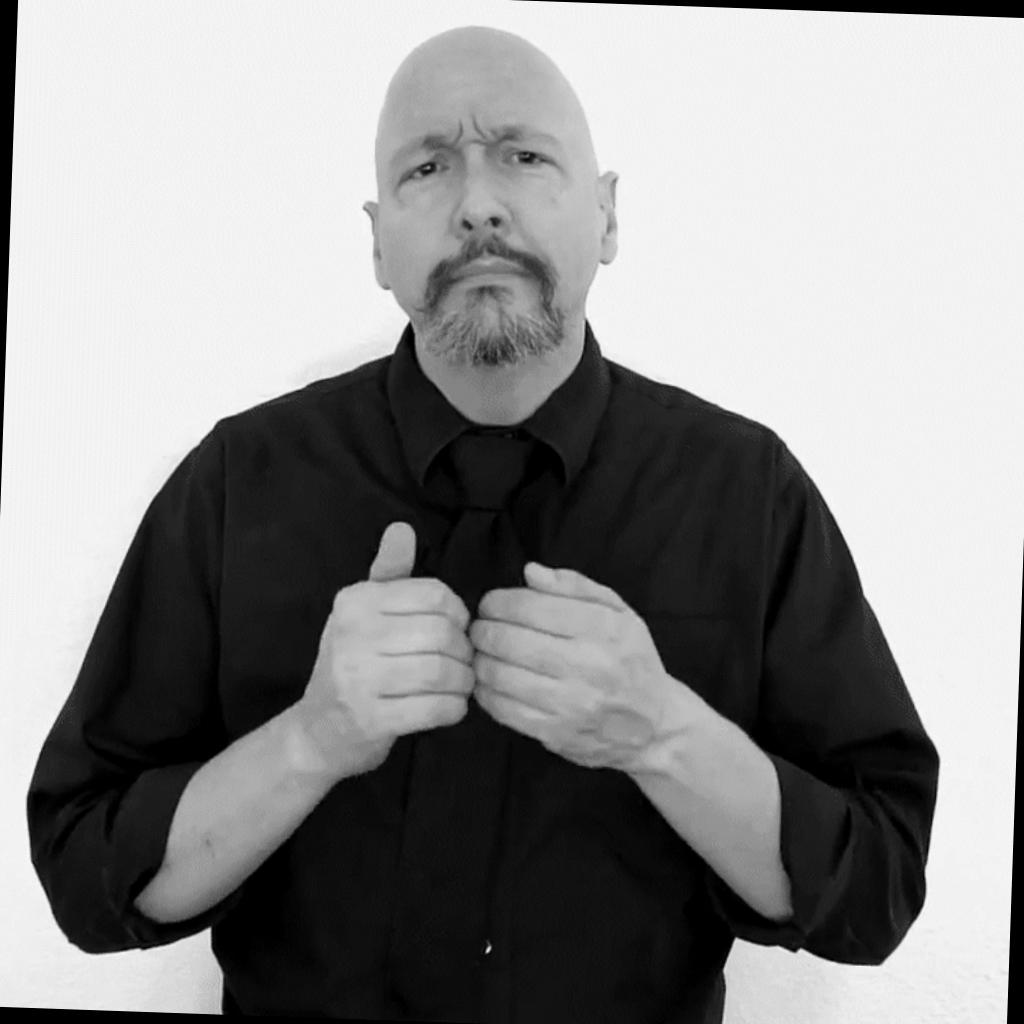how: (300, 519, 672, 789)
